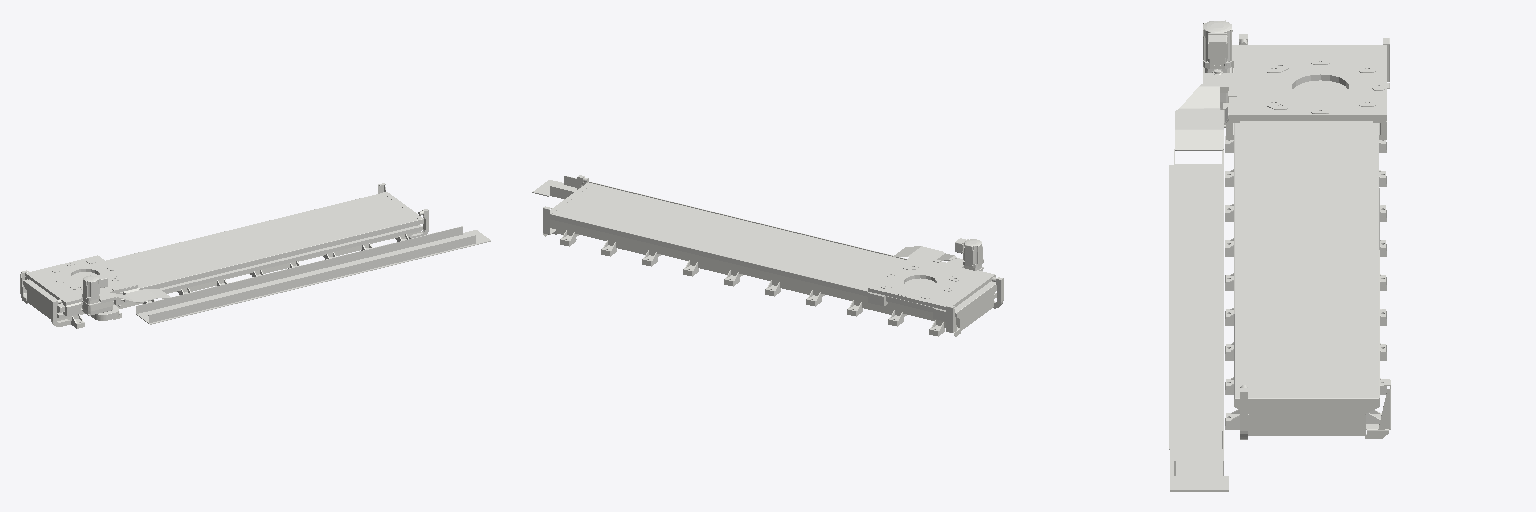
The robot description file, URDF, robot "abb_on_axis":
<?xml version="1.0" encoding="utf-8"?>
<!-- =================================================================================== -->
<!-- |    This document was autogenerated by xacro from princeton_cell.xacro              | -->
<!-- |    EDITING THIS FILE BY HAND IS NOT RECOMMENDED                                 | -->
<!-- =================================================================================== -->
<robot name="abb_on_axis">
  <!-- Conversion were obtained from http://www.e-paint.co.uk/Lab_values.asp
       unless otherwise stated. -->
  <!-- Conversion were obtained from http://www.e-paint.co.uk/Lab_values.asp
       unless otherwise stated. -->
  <link name="axis">
    <inertial>
      <origin xyz="0.0 0.0 0.0"/>
      <mass value="120"/>
      <inertia ixx="-4.98000" ixy="-0.00000" ixz="2.70000" iyy="-5.95200" iyz="-0.00000" izz="0.82800"/>
    </inertial>
    <visual>
      <geometry>
        <mesh filename="package://princeton_cell/meshes/visual/axis.stl"/>
      </geometry>
      <material name="">
        <color rgba="0.9254902 0.9254902 0.9058824 1"/>
      </material>
    </visual>
    <collision>
      <geometry>
        <mesh filename="package://princeton_cell/meshes/collision/axis.stl"/>
      </geometry>
    </collision>
  </link>
  <joint name="cart_joint" type="prismatic">
    <parent link="axis"/>
    <child link="cart"/>
    <origin rpy="0 0 0 " xyz="0 0 0"/>
    <axis xyz="1 0 0"/>
    <limit effort="100000" lower="-1.926" upper="0.675" velocity="2.618"/>
    <dynamics damping="0.2" friction="0"/>
  </joint>
  <link name="cart">
    <inertial>
      <origin xyz="0.0 0.0 0.0"/>
      <mass value="120.00000"/>
      <inertia ixx="-4.98000" ixy="-0.00000" ixz="2.70000" iyy="-5.95200" iyz="-0.00000" izz="0.82800"/>
    </inertial>
    <visual>
      <geometry>
        <mesh filename="package://princeton_cell/meshes/visual/cart.stl"/>
      </geometry>
      <material name="">
        <color rgba="0.9254902 0.9254902 0.9058824 1"/>
      </material>
    </visual>
    <collision>
      <geometry>
        <mesh filename="package://princeton_cell/meshes/collision/cart.stl"/>
      </geometry>
    </collision>
  </link>
  <joint name="abb_joint" type="fixed">
    <parent link="cart"/>
    <child link="base_link"/>
    <origin rpy="0 0 1.57079632679 " xyz="0 0 0 "/>
    <dynamics damping="0.2" friction="0"/>
  </joint>
  <!-- link list -->
  <link name="base_link">
    <inertial>
      <origin xyz="0.0 0.0 0.0"/>
      <mass value="120.00000"/>
      <inertia ixx="-4.98000" ixy="-0.00000" ixz="2.70000" iyy="-5.95200" iyz="-0.00000" izz="0.82800"/>
    </inertial>
    <visual>
      <geometry>
        <mesh filename="package://abb_irb4600_40_255/meshes/visual/base_link.stl"/>
      </geometry>
      <material name="">
        <color rgba="0.7725490 0.7803922 0.7686275 1"/>
      </material>
    </visual>
    <collision>
      <geometry>
        <mesh filename="package://abb_irb4600_40_255/meshes/collision/base_link.stl"/>
      </geometry>
    </collision>
  </link>
  <link name="link_1">
    <inertial>
      <origin xyz="0.18000 0.00000 0.50000"/>
      <mass value="120.00000"/>
      <inertia ixx="-4.98000" ixy="-0.00000" ixz="2.70000" iyy="-5.95200" iyz="-0.00000" izz="0.82800"/>
    </inertial>
    <visual>
      <geometry>
        <mesh filename="package://abb_irb4600_40_255/meshes/visual/link_1.stl"/>
      </geometry>
      <material name="">
        <color rgba="0.7725490 0.7803922 0.7686275 1"/>
      </material>
    </visual>
    <collision>
      <geometry>
        <mesh filename="package://abb_irb4600_40_255/meshes/collision/link_1.stl"/>
      </geometry>
    </collision>
  </link>
  <link name="link_2">
    <inertial>
      <origin xyz="0.94000 0.08000 -0.34000"/>
      <mass value="120.00000"/>
      <inertia ixx="-2.96000" ixy="2.25600" ixz="-9.58800" iyy="-18.72601" iyz="-0.81600" izz="-14.95000"/>
    </inertial>
    <visual>
      <geometry>
        <mesh filename="package://abb_irb4600_40_255/meshes/visual/link_2.stl"/>
      </geometry>
      <material name="">
        <color rgba="0.7725490 0.7803922 0.7686275 1"/>
      </material>
    </visual>
    <collision>
      <geometry>
        <mesh filename="package://abb_irb4600_40_255/meshes/collision/link_2.stl"/>
      </geometry>
    </collision>
  </link>
  <link name="link_3">
    <inertial>
      <origin xyz="0.07000 -0.26600 0.08800"/>
      <mass value="120.00000"/>
      <inertia ixx="1.34500" ixy="-0.55860" ixz="0.18480" iyy="4.65068" iyz="-0.70224" izz="2.76032"/>
    </inertial>
    <visual>
      <geometry>
        <mesh filename="package://abb_irb4600_40_255/meshes/visual/link_3.stl"/>
      </geometry>
      <material name="">
        <color rgba="0.7725490 0.7803922 0.7686275 1"/>
      </material>
    </visual>
    <collision>
      <geometry>
        <mesh filename="package://abb_irb4600_40_255/meshes/collision/link_3.stl"/>
      </geometry>
    </collision>
  </link>
  <link name="link_4">
    <inertial>
      <origin xyz="0.00000 0.00000 1.00000"/>
      <mass value="40.00000"/>
      <inertia ixx="-8.00000" ixy="-0.00000" ixz="-0.00000" iyy="-8.00000" iyz="-0.00000" izz="0.48200"/>
    </inertial>
    <visual>
      <geometry>
        <mesh filename="package://abb_irb4600_40_255/meshes/visual/link_4.stl"/>
      </geometry>
      <material name="">
        <color rgba="0.7725490 0.7803922 0.7686275 1"/>
      </material>
    </visual>
    <collision>
      <geometry>
        <mesh filename="package://abb_irb4600_40_255/meshes/collision/link_4.stl"/>
      </geometry>
    </collision>
  </link>
  <link name="link_5">
    <inertial>
      <origin xyz="0.14000 0.00000 0.00000"/>
      <mass value="10.00000"/>
      <inertia ixx="0.04000" ixy="-0.00000" ixz="-0.00000" iyy="-0.00900" iyz="-0.00000" izz="-0.00400"/>
    </inertial>
    <visual>
      <geometry>
        <mesh filename="package://abb_irb4600_40_255/meshes/visual/link_5.stl"/>
      </geometry>
      <material name="">
        <color rgba="0.7725490 0.7803922 0.7686275 1"/>
      </material>
    </visual>
    <collision>
      <geometry>
        <mesh filename="package://abb_irb4600_40_255/meshes/collision/link_5.stl"/>
      </geometry>
    </collision>
  </link>
  <link name="link_6">
    <inertial>
      <origin xyz="0.08100 -0.09100 0.33200"/>
      <mass value="5.00000"/>
      <inertia ixx="-0.29652" ixy="-0.03686" ixz="0.09396" iyy="-0.28792" iyz="-0.10556" izz="-0.04621"/>
    </inertial>
    <visual>
      <geometry>
        <mesh filename="package://abb_irb4600_40_255/meshes/visual/link_6.stl"/>
      </geometry>
      <material name="">
        <color rgba="0.1882353 0.1960784 0.2039216 1"/>
      </material>
    </visual>
    <collision>
      <geometry>
        <mesh filename="package://abb_irb4600_40_255/meshes/collision/link_6.stl"/>
      </geometry>
    </collision>
  </link>
  <link name="tool0"/>
  <!-- end of link list -->
  <!-- joint list -->
  <joint name="joint_1" type="revolute">
    <parent link="base_link"/>
    <child link="link_1"/>
    <origin rpy="0 0 0 " xyz="0 0 0"/>
    <axis xyz="0 0 1"/>
    <limit effort="100000" lower="-3.14159" upper="3.14159" velocity="2.618"/>
    <dynamics damping="0.2" friction="0"/>
  </joint>
  <joint name="joint_2" type="revolute">
    <parent link="link_1"/>
    <child link="link_2"/>
    <origin rpy="0 -0 0 " xyz="0.175 0 0.495"/>
    <axis xyz="0 1 0"/>
    <limit effort="100000" lower="-1.5708" upper="2.61799" velocity="2.618"/>
    <dynamics damping="0.2" friction="0"/>
  </joint>
  <joint name="joint_3" type="revolute">
    <parent link="link_2"/>
    <child link="link_3"/>
    <origin rpy="0 -0 0 " xyz="0 0 1.095"/>
    <axis xyz="0 1 0"/>
    <limit effort="100000" lower="-3.14159" upper="1.309" velocity="2.618"/>
    <dynamics damping="0.2" friction="0"/>
  </joint>
  <joint name="joint_4" type="revolute">
    <parent link="link_3"/>
    <child link="link_4"/>
    <origin rpy="0 -0 0 " xyz="0.332 0 0.175"/>
    <axis xyz="1 0 0"/>
    <limit effort="10000" lower="-6.98132" upper="6.98132" velocity="6.2832"/>
    <dynamics damping="0.2" friction="0"/>
  </joint>
  <joint name="joint_5" type="revolute">
    <parent link="link_4"/>
    <child link="link_5"/>
    <origin rpy="0 -0 0 " xyz="0.939 0 0"/>
    <axis xyz="0 1 0"/>
    <limit effort="100000" lower="-2.18166" upper="2.0944" velocity="6.2832"/>
    <dynamics damping="0.2" friction="0"/>
  </joint>
  <joint name="joint_6" type="revolute">
    <parent link="link_5"/>
    <child link="link_6"/>
    <origin rpy="0 1.57076 0 " xyz="0.135 0 0"/>
    <axis xyz="0 0 1"/>
    <limit effort="100000" lower="-6.98132" upper="6.98132" velocity="7.854"/>
    <dynamics damping="0.2" friction="0"/>
  </joint>
  <joint name="joint_6-tool0" type="fixed">
    <parent link="link_6"/>
    <child link="tool0"/>
    <origin rpy="0 0 0" xyz="0 0 0"/>
  </joint>
  <!-- end of joint list -->
  <!-- ROS base_link to ABB World Coordinates transform -->
  <link name="base"/>
  <joint name="base_link-base" type="fixed">
    <origin rpy="0 0 0" xyz="0 0 0"/>
    <parent link="base_link"/>
    <child link="base"/>
  </joint>
</robot>

--- Render facts (derived) ---
The picture shows the robot from 3 angles, left to right: view 1: azimuth 30°, elevation 25°; view 2: azimuth 150°, elevation 25°; view 3: azimuth 270°, elevation 25°; orthographic projection.
Robot: abb_on_axis — 11 links, 10 joints (6 revolute, 1 prismatic, 3 fixed); root link axis; default pose: every joint at zero.
Links seen in each view (by area): view 1: axis, cart; view 2: axis, cart; view 3: axis, cart.
Link boxes in pixels (left/top/right/bottom): axis: left=20, top=183, right=490, bottom=328; cart: left=25, top=255, right=171, bottom=320; axis: left=532, top=175, right=1003, bottom=336; cart: left=868, top=238, right=995, bottom=321; axis: left=1169, top=34, right=1390, bottom=491; cart: left=1175, top=20, right=1386, bottom=150.
Size in the robot's own frame: 5.78 by 1.35 by 0.6462 metres.
2 mesh visuals loaded from 9 distinct referenced files (2 binary STL); not drawn: 7 (reference not matched to a file when rendering).